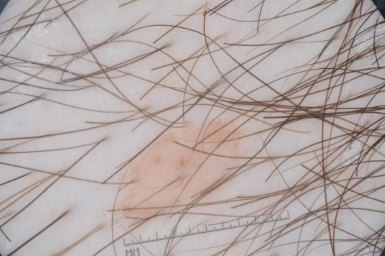nevus: (122, 127, 236, 222)
